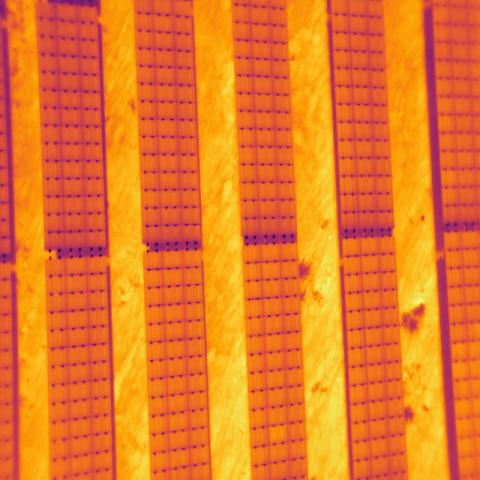fault: (269, 424, 286, 443)
